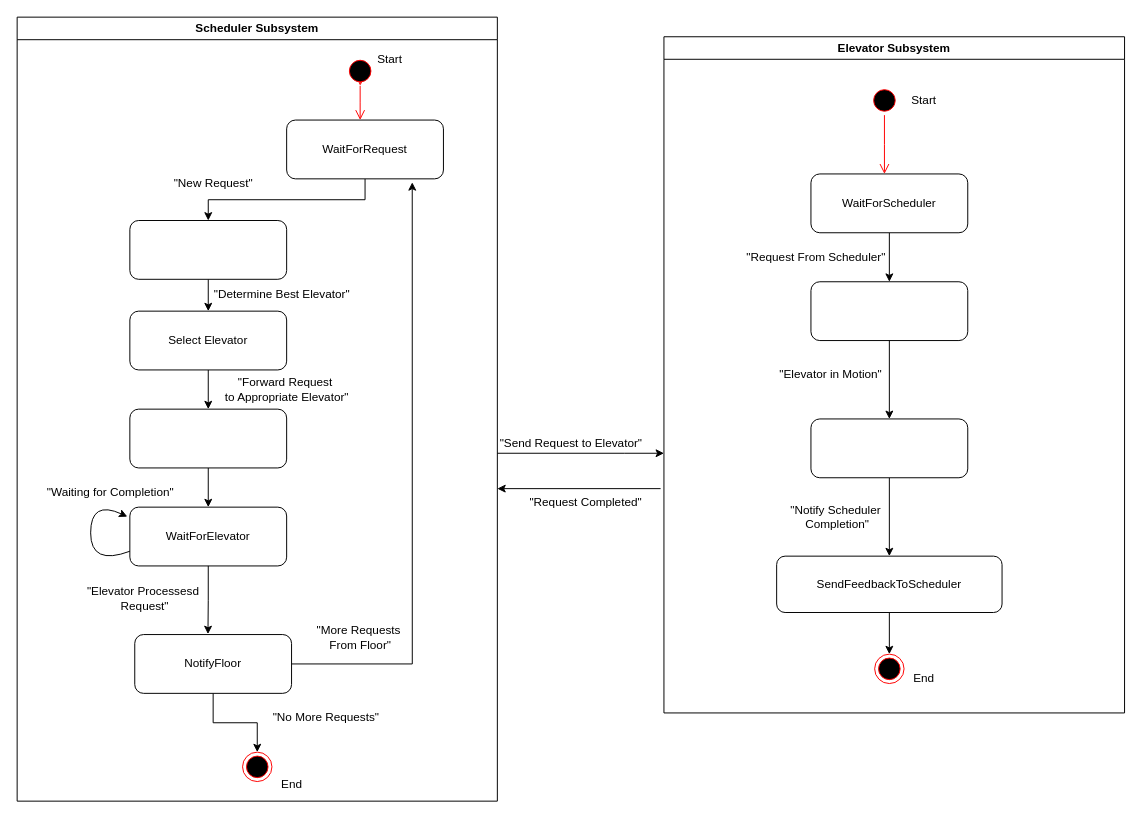
Some shapes in this 1142 by 818 pixel diagram are drawn without their labels. The centre of each missing label's shape, as x and y in pixels:
"MovingToFloor" belongs at (889,448).
"ProcessRequest" belongs at (208,249).
"ReceiveInstructions" belongs at (889,311).
"SendToElevator" belongs at (208,438).
